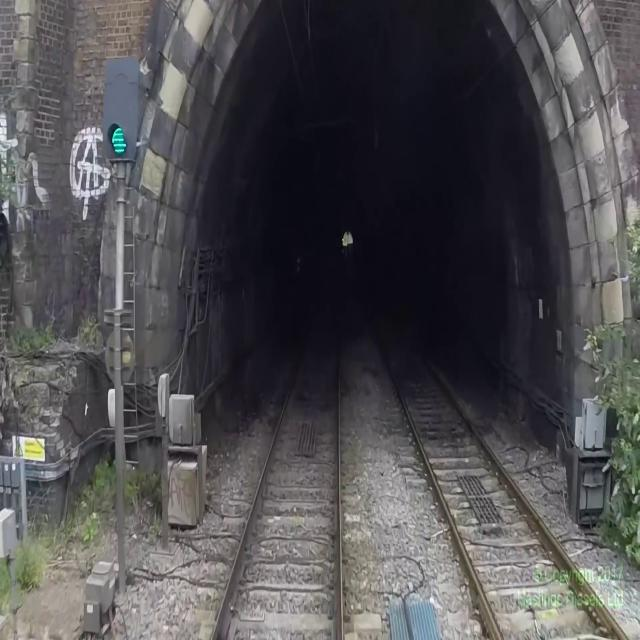rail-track: (355, 268, 625, 639), (213, 250, 344, 639)
